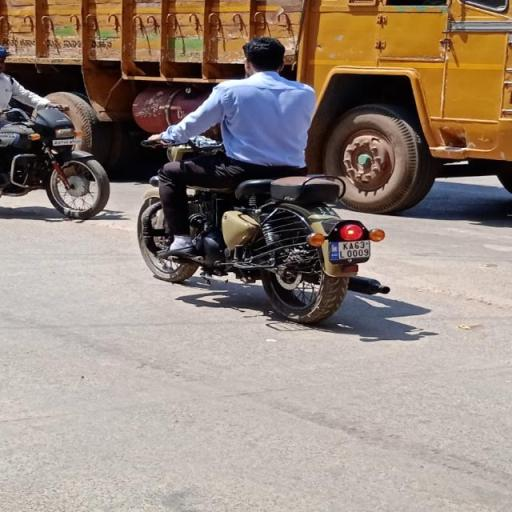bike: (132, 38, 394, 325)
numberplate: (324, 240, 372, 262)
withouthelmet: (245, 40, 284, 72)
